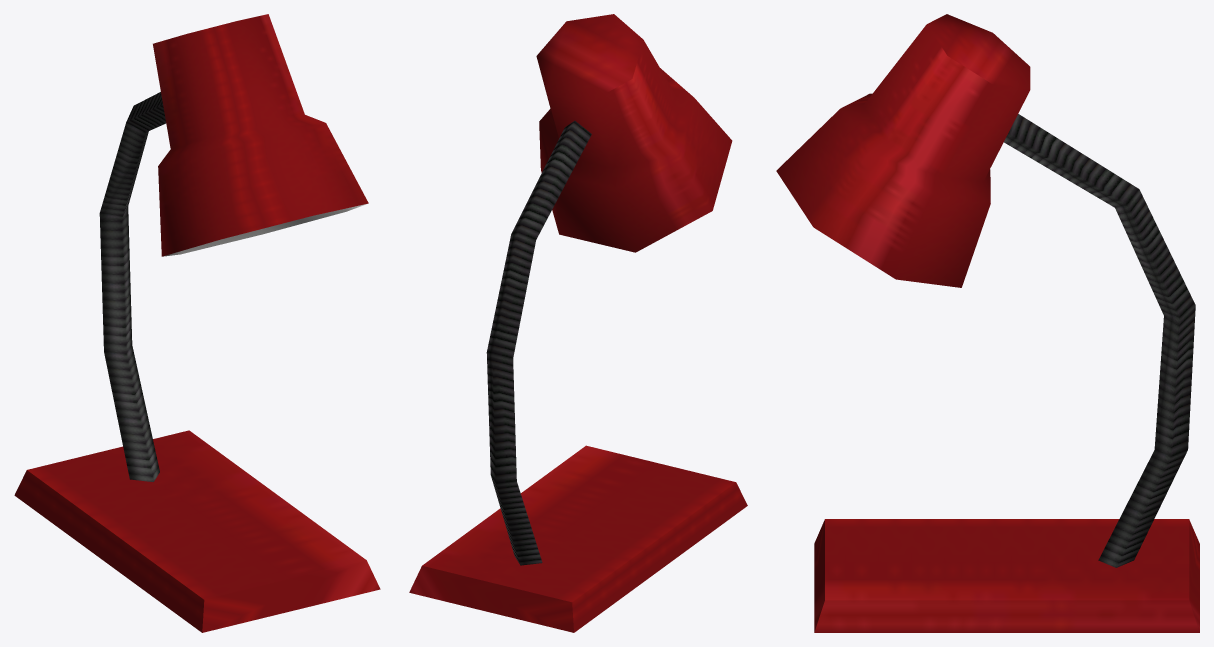
File: bendyred.fbx
The picture shows the model from 3 angles, left to right: view 1: azimuth 30°, elevation 25°; view 2: azimuth 150°, elevation 25°; view 3: azimuth 270°, elevation 25°; orthographic projection. The views are drawn at different scales.
Parts seen in each view (by area): view 1: mesh_0; view 2: mesh_0; view 3: mesh_0.
Part boxes in pixels (box(x1,y1,x2,y2)): mesh_0: box(14, 14, 380, 632); mesh_0: box(409, 14, 747, 632); mesh_0: box(776, 14, 1199, 632).
Bounding box in the file's own units: 17.6 × 49.95 × 33.98.
Materials: 1 (1 with a texture image).
